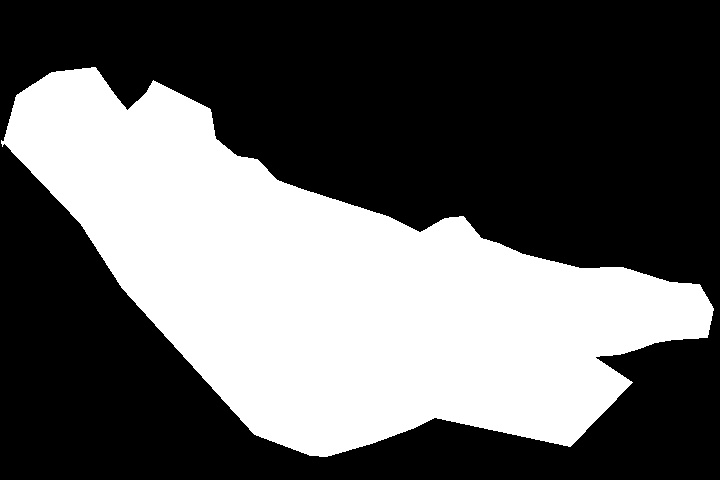Fire: (49, 101, 368, 320)
